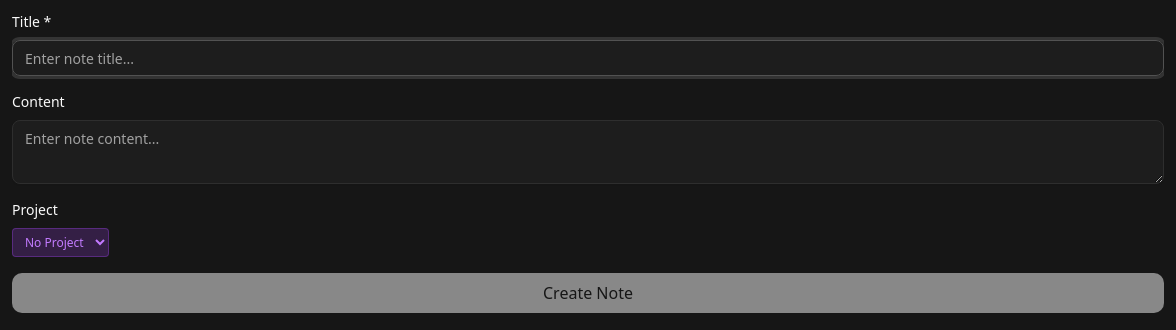
Test: NoteForm › validation › enables submit button when title has content
Expected: the button "Create Note" is disabled, [12,273,1164,313]
Type "New Note" into the field labelled "Title *" at (588, 58), box [12,40,1164,76]
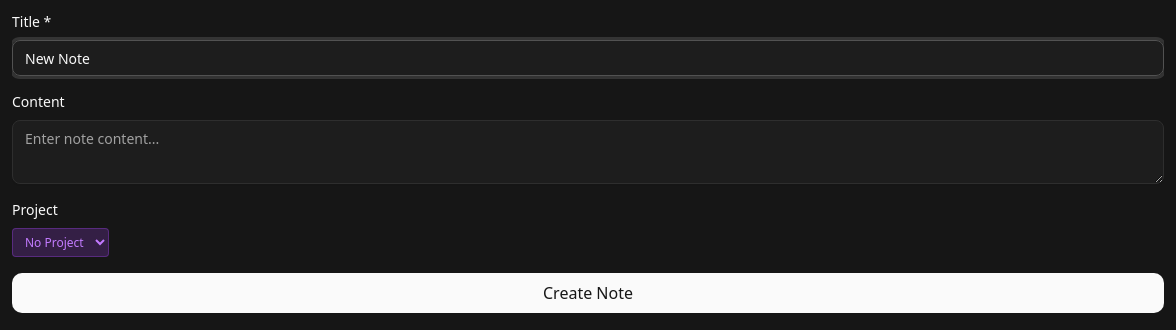
Expected: the button "Create Note" is enabled, [12,273,1164,313]
